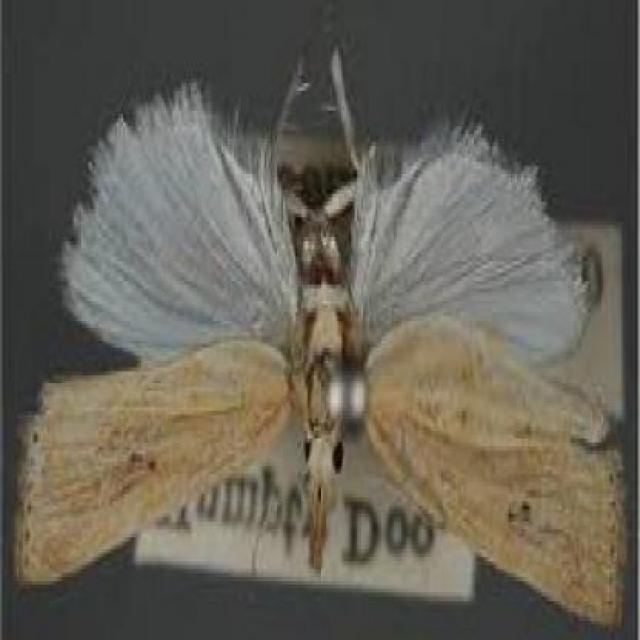stem-borer: (11, 27, 627, 631)
